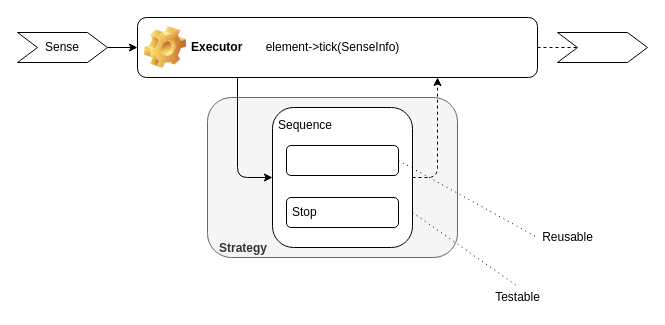
The diagram is 665 pixels wide and 325 high, and some of its shapes have lost their labels. The shapes that lost their labels are listed below. From the top down, each one's centre as x and y in pixels, then its label:
the point at 602,47: Actuate
the point at 342,160: DriveForward
